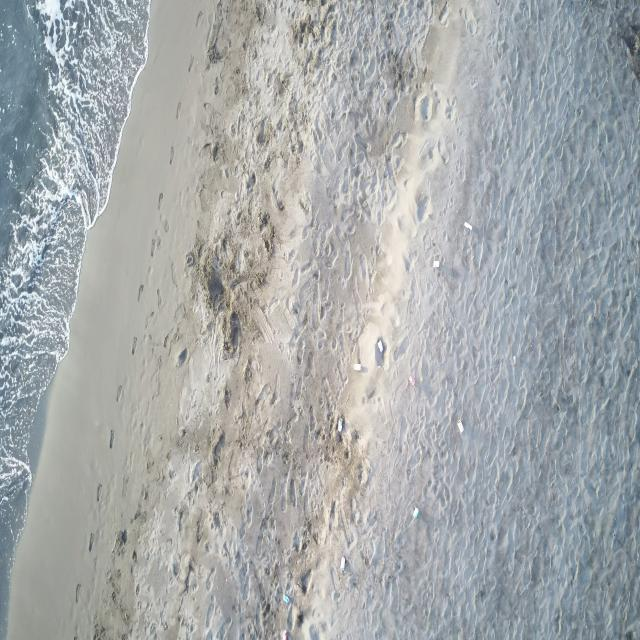tin-and-aluminum-cans: (377, 337, 386, 355), (432, 259, 442, 275), (337, 417, 344, 434), (463, 221, 474, 231), (458, 417, 464, 435), (413, 508, 421, 521), (340, 556, 346, 572), (282, 629, 290, 640), (282, 594, 290, 604), (409, 375, 416, 386), (354, 362, 361, 372)
